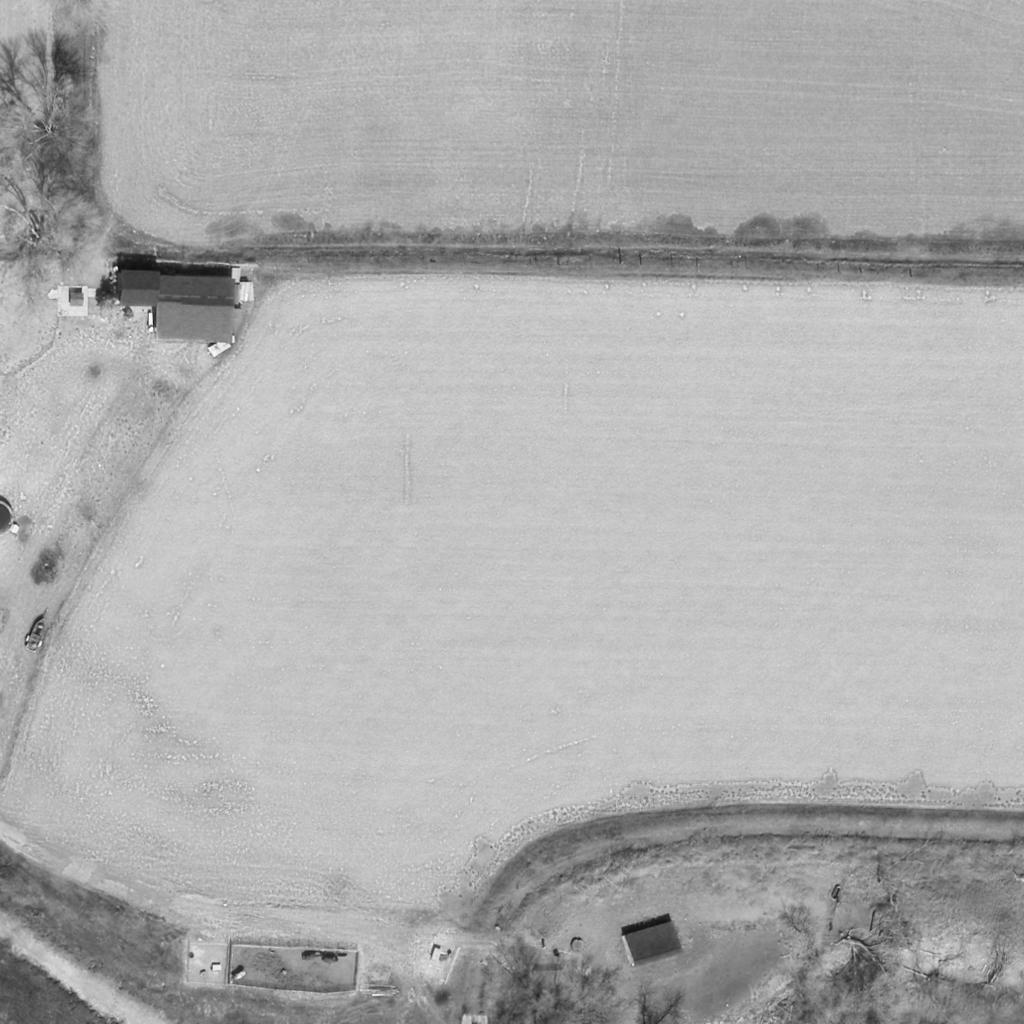vehicle: (23, 617, 51, 655), (206, 335, 240, 357)
